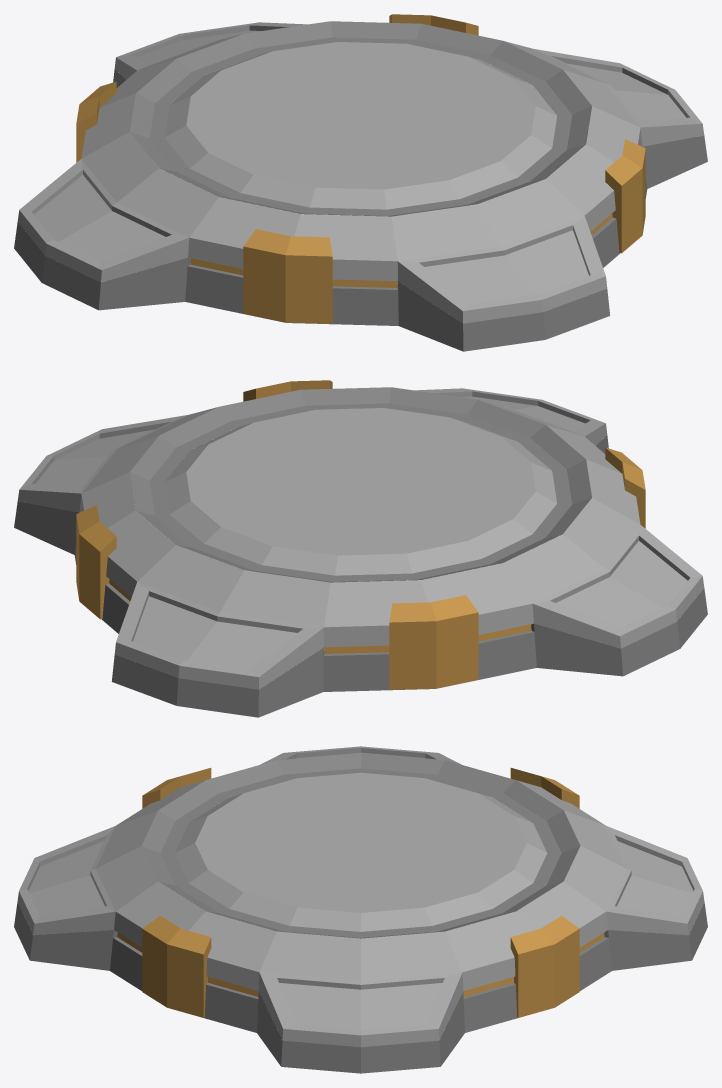
File: pad.glb
3 renders of one model, top to bottom at view 1: azimuth 30°, elevation 25°; view 2: azimuth 150°, elevation 25°; view 3: azimuth 270°, elevation 25°, orthographic. The views are drawn at different scales.
Visible parts, largest first — view 1: Props_Base; view 2: Props_Base; view 3: Props_Base.
Part boxes in pixels (x1=…): Props_Base: x1=14, y1=14, x2=707, y2=351; Props_Base: x1=14, y1=380, x2=707, y2=717; Props_Base: x1=14, y1=746, x2=707, y2=1073.
Bounding box in the file's own units: 1.2 × 0.161 × 1.2.
